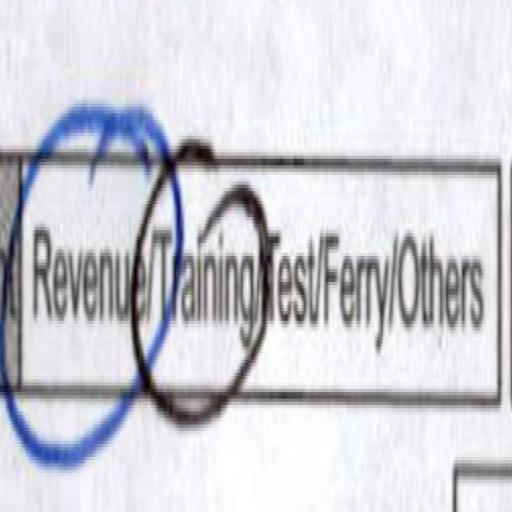check: (27, 110, 148, 503), (151, 87, 261, 454)
